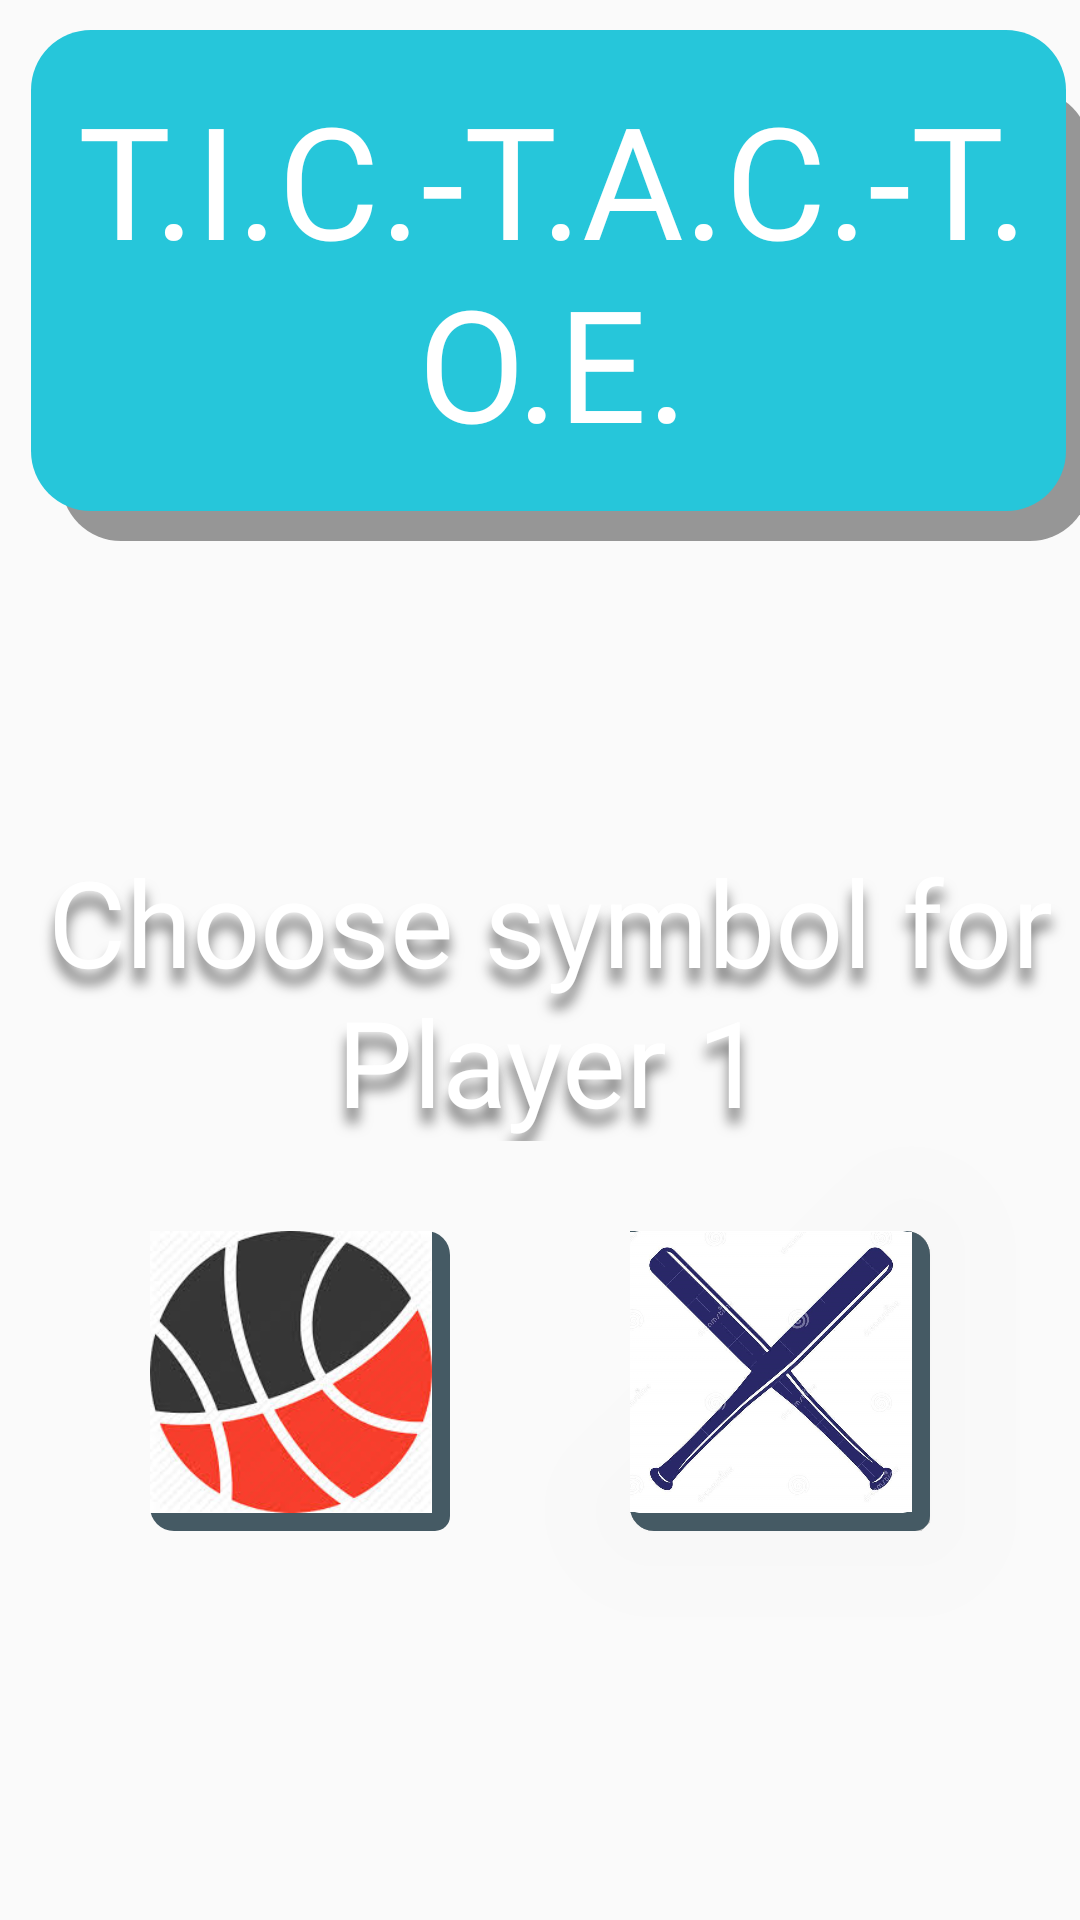

Icons on this 1080 × 1920 Android screen, each with the point to tap as (x=x, y=y):
baseball: (x=780, y=1381)
